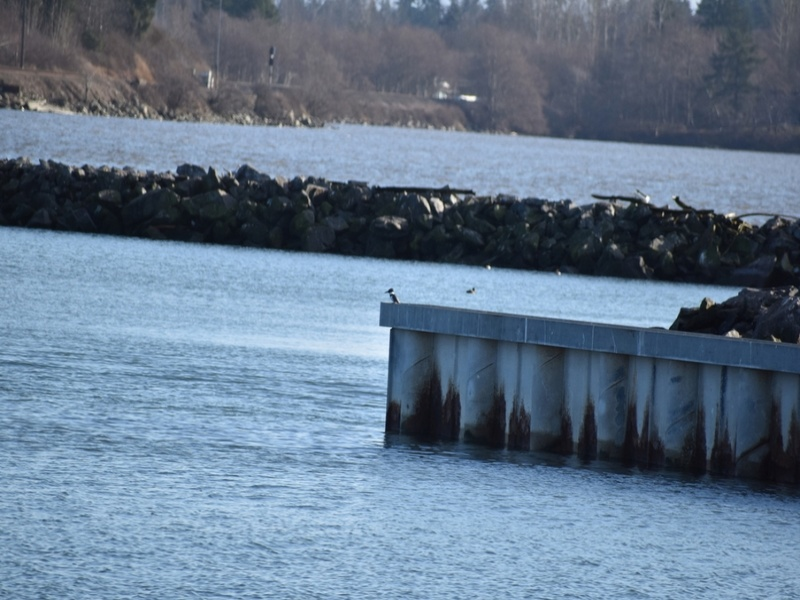kingfisher: (386, 287, 397, 303)
